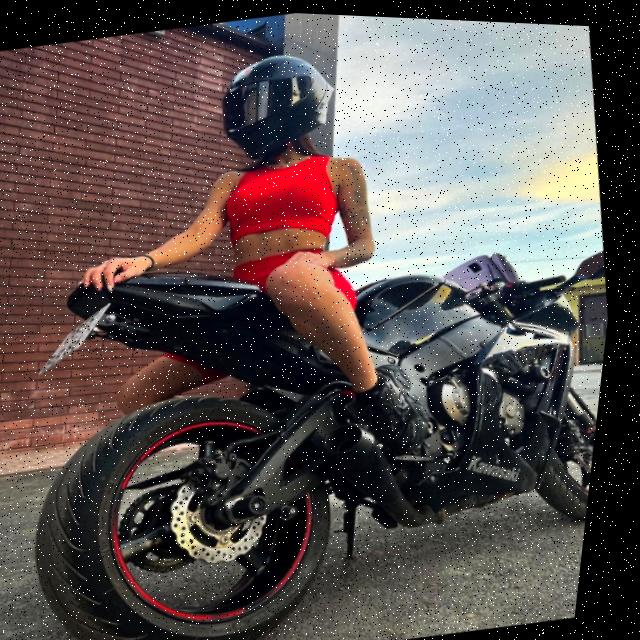helmet: (204, 35, 355, 171)
